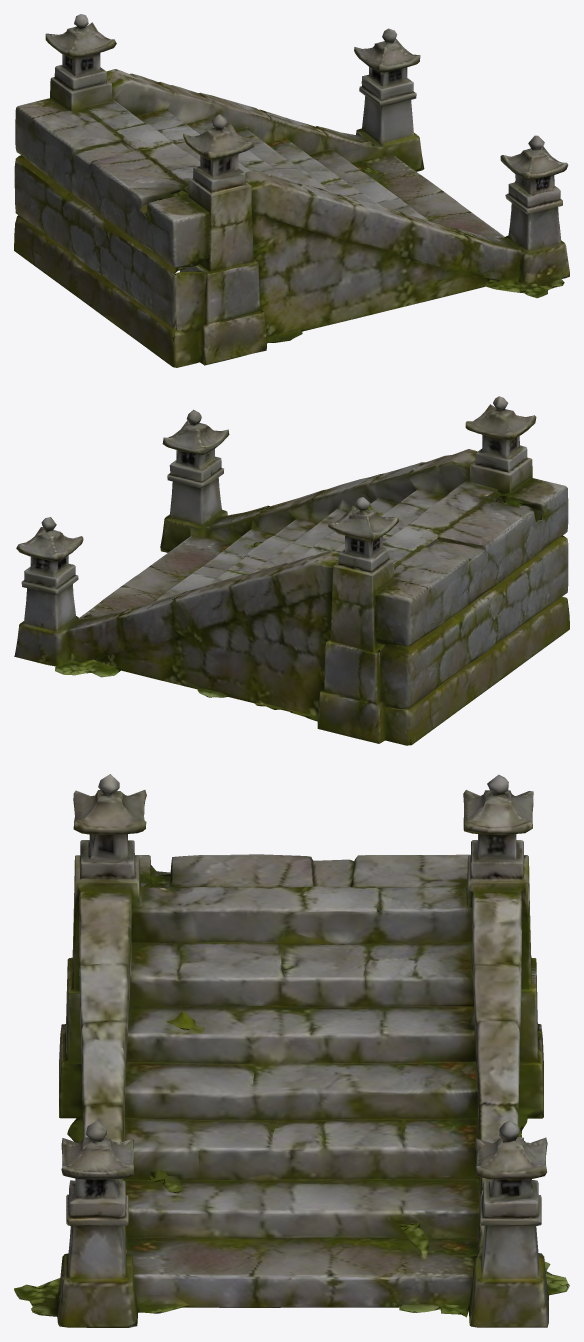
The model's file is kaidan.glb.
The picture shows the model from 3 angles, top to bottom: view 1: azimuth 30°, elevation 25°; view 2: azimuth 150°, elevation 25°; view 3: azimuth 270°, elevation 25°; orthographic projection. The views are drawn at different scales.
Visible parts, largest first — view 1: tripo_node_c674eb84-1f4f-4d7f-b578-9e7a302b5053; view 2: tripo_node_c674eb84-1f4f-4d7f-b578-9e7a302b5053; view 3: tripo_node_c674eb84-1f4f-4d7f-b578-9e7a302b5053.
Boxes of the visible parts, left/top/right/bottom form: tripo_node_c674eb84-1f4f-4d7f-b578-9e7a302b5053: left=14, top=14, right=569, bottom=367; tripo_node_c674eb84-1f4f-4d7f-b578-9e7a302b5053: left=14, top=396, right=569, bottom=745; tripo_node_c674eb84-1f4f-4d7f-b578-9e7a302b5053: left=14, top=774, right=569, bottom=1327.
Bounding box in the file's own units: 1 × 0.5591 × 0.87.
1 material, 1 textured.
